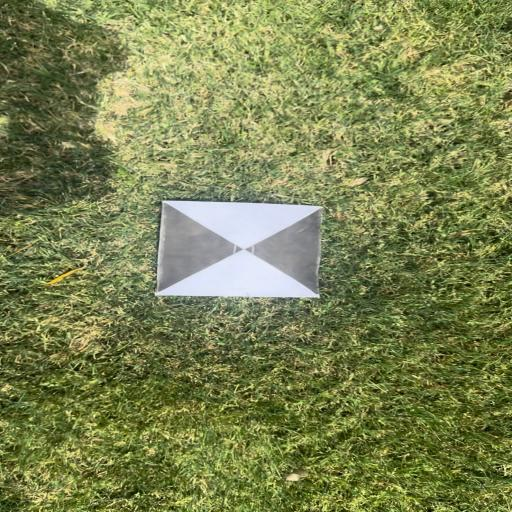target: (160, 200, 322, 297)
